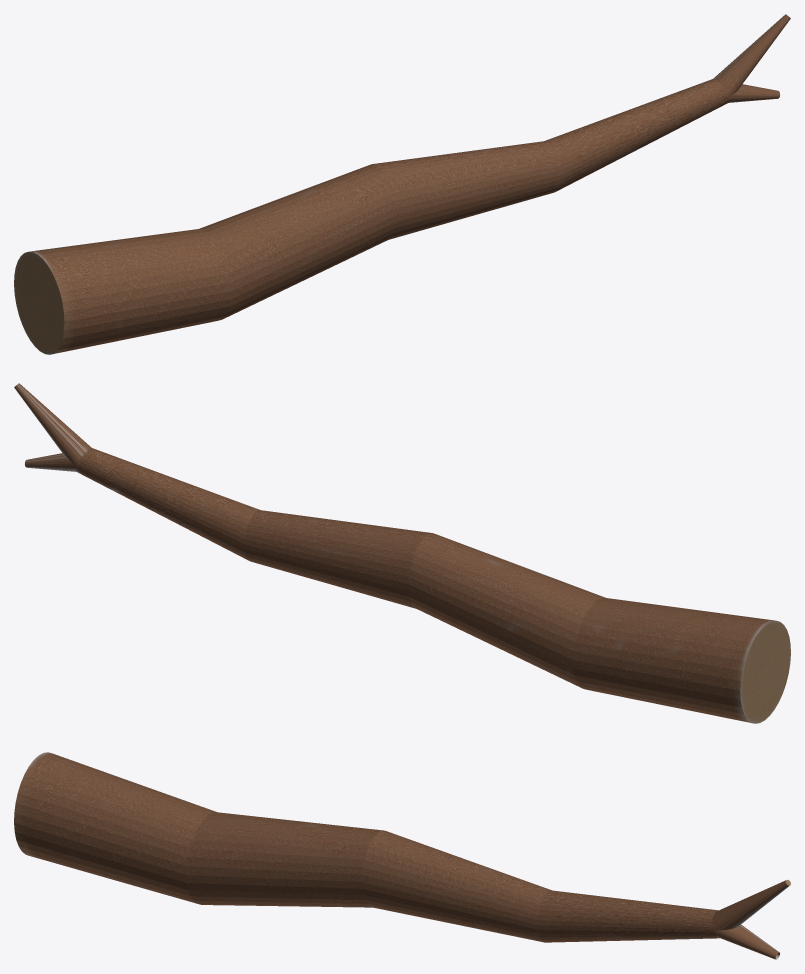
File: Branch.fbx
3 views of the same model, one above another, from view 1: azimuth 30°, elevation 25°; view 2: azimuth 150°, elevation 25°; view 3: azimuth 330°, elevation 25° (orthographic).
Parts seen in each view (by area): view 1: Branch; view 2: Branch; view 3: Branch.
Part boxes in pixels (box(x1,y1,x2,y2)): Branch: box(14, 14, 790, 354); Branch: box(14, 383, 790, 723); Branch: box(14, 752, 790, 959).
Size of the model in its own units: 221 by 45.69 by 25.79.
